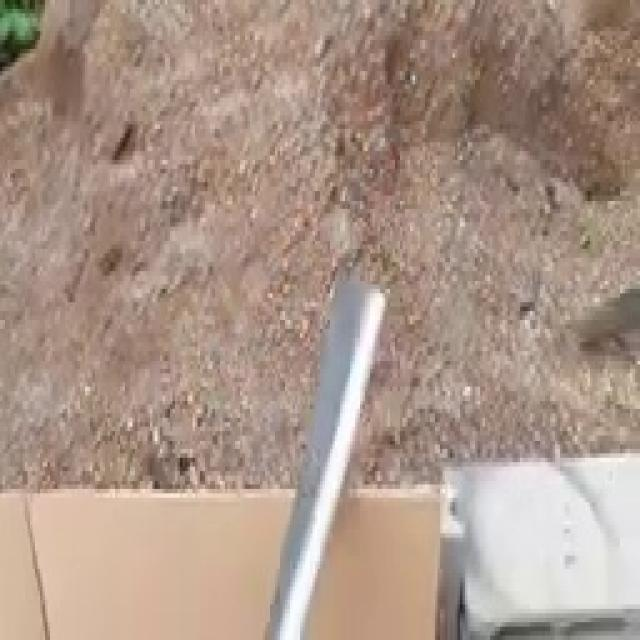eto: (265, 261, 385, 640)
